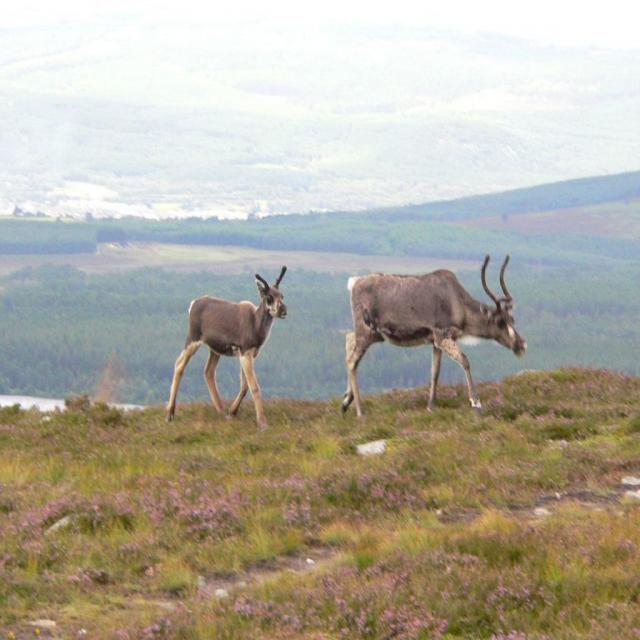Deer: (340, 253, 526, 418), (164, 264, 288, 428)
